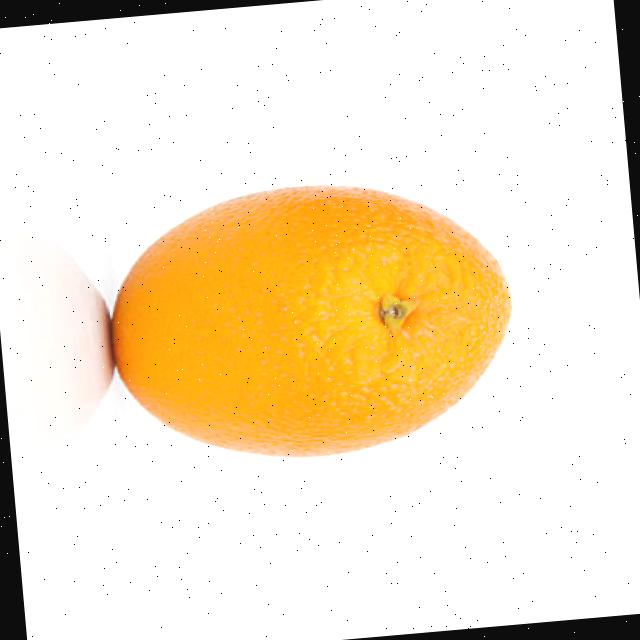Ripe: (93, 162, 530, 476)
